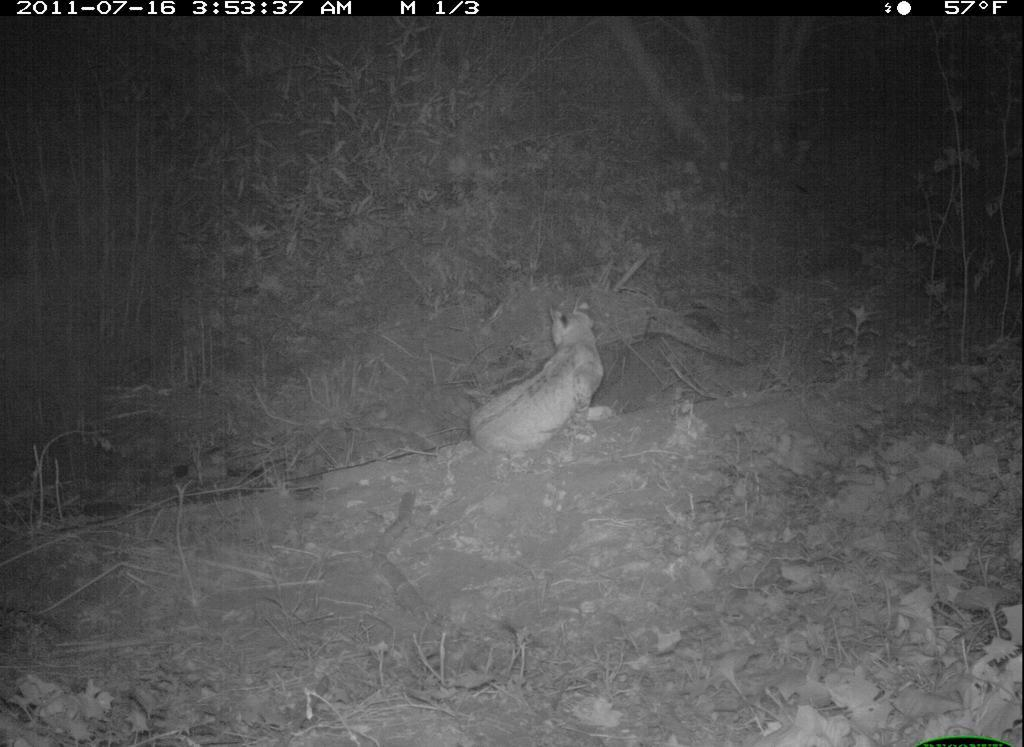bobcat: (469, 297, 614, 461)
